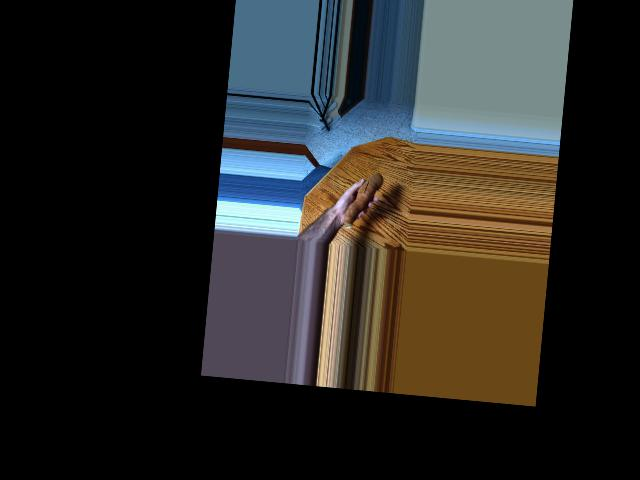sweet_potato: (338, 167, 384, 232)
